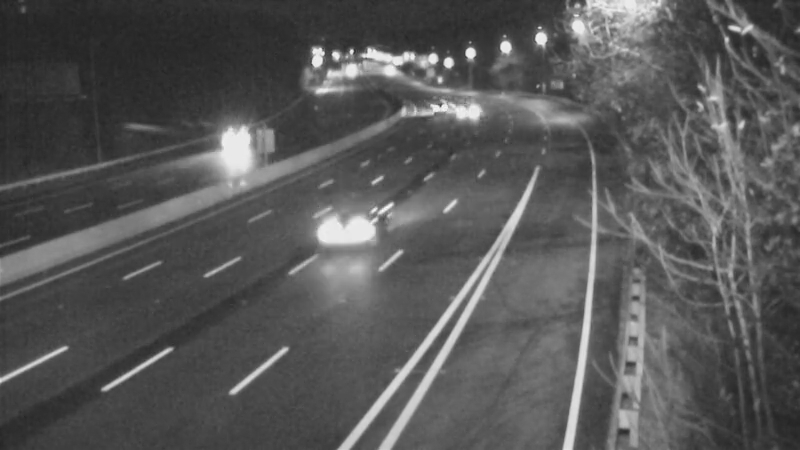vehicle: (309, 186, 389, 266), (363, 47, 413, 97), (416, 84, 466, 134), (444, 80, 494, 130), (209, 119, 259, 169)
